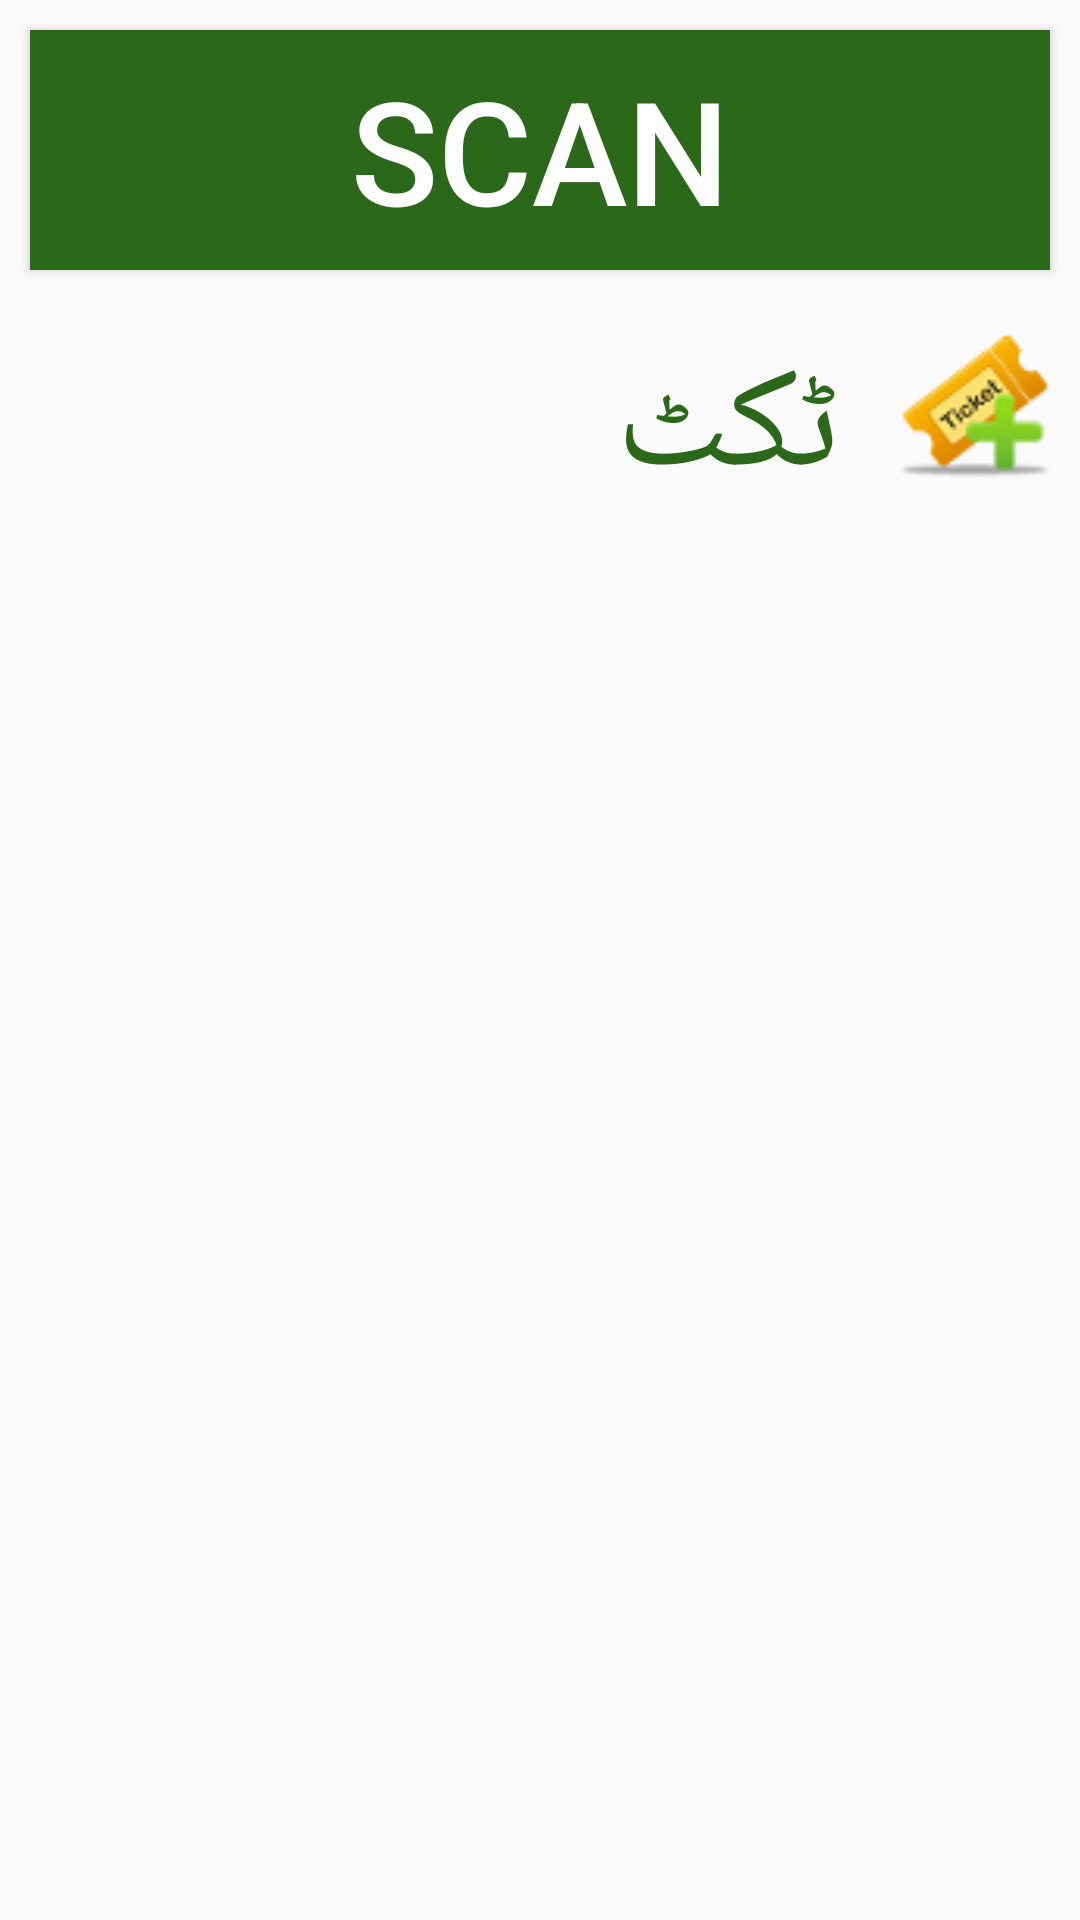

Screen size 1080w x 1920h. Icon name, then its center in pixels as (x=x, y=y):
create ticket: (x=975, y=405)
